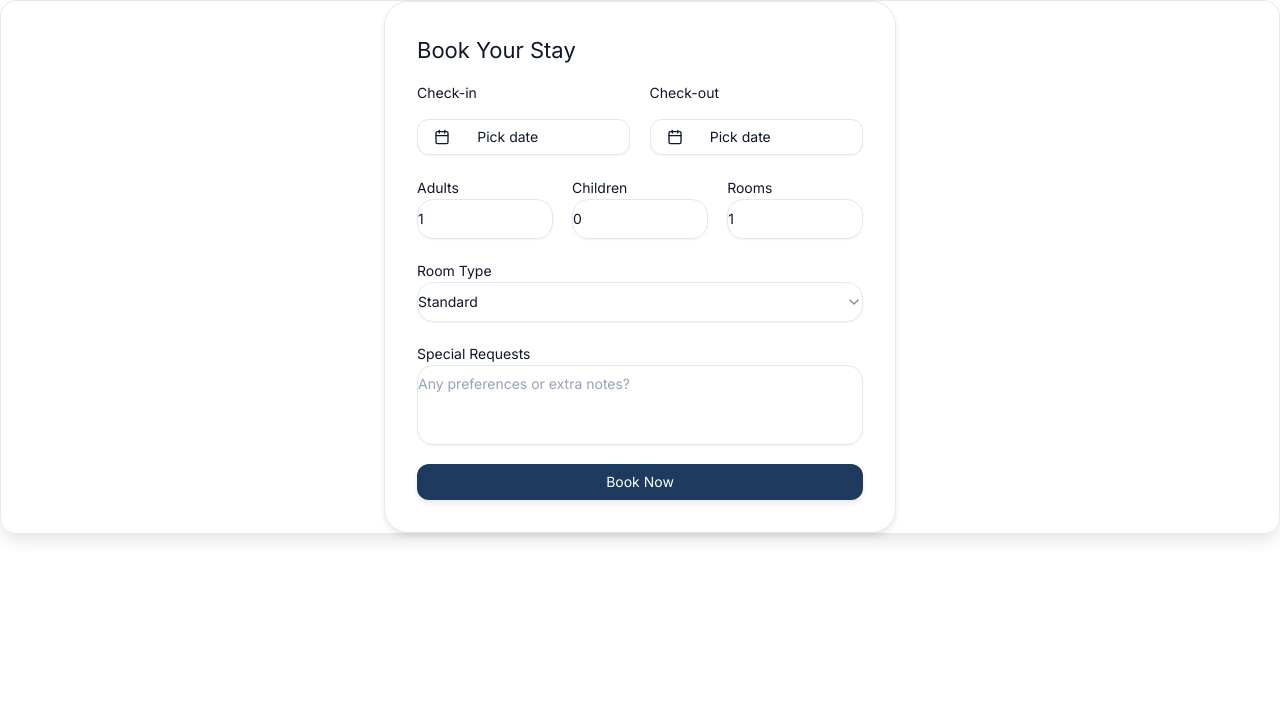
Test: BookingWidget - Story 1.5 Implementation › AC2: Form Validation and User Experience › shows validation error when dates are not selected
Click the button "Book Now" at (640, 482), box [417,464,863,500]
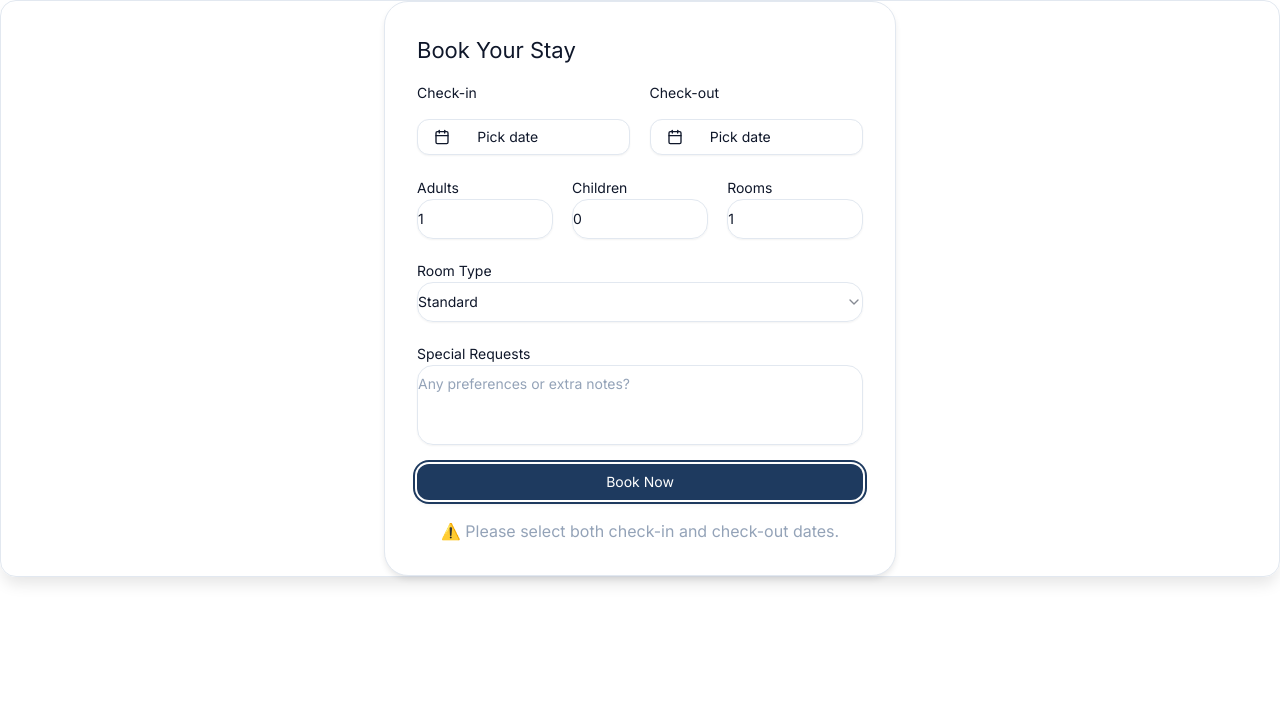
Expected: the text "⚠️ Please select both check-in and check-out dates." is shown, [417,519,863,543]
